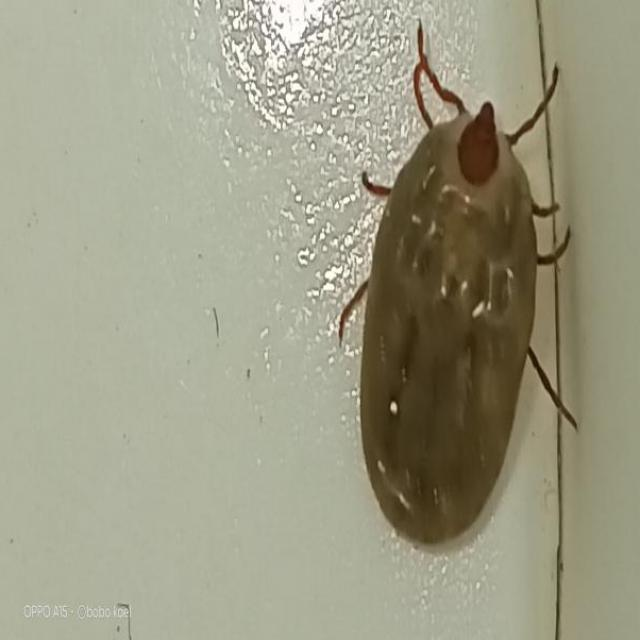Rhipicephalus Sanguineus-F-Fed: (338, 25, 580, 557)
